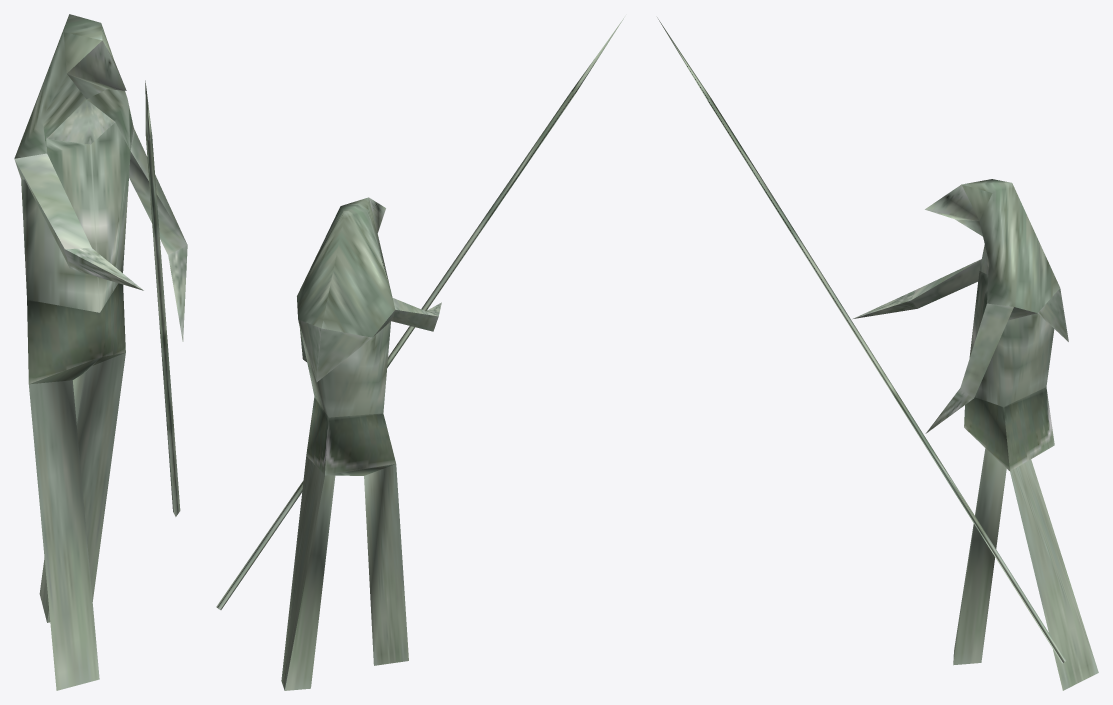
The model's file is thm_nboo_gungan_statue_s04_l4.fbx.
The picture shows the model from 3 angles, left to right: view 1: azimuth 30°, elevation 25°; view 2: azimuth 150°, elevation 25°; view 3: azimuth 270°, elevation 25°; orthographic projection. The views are drawn at different scales.
Visible parts, largest first — view 1: mesh_node; view 2: mesh_node; view 3: mesh_node.
Part boxes in pixels (x1,y1,x2,y2): mesh_node: [14, 14, 187, 690]; mesh_node: [216, 17, 624, 690]; mesh_node: [657, 17, 1098, 690].
Bounding box in the file's own units: 1.78 × 4.4 × 2.96.
